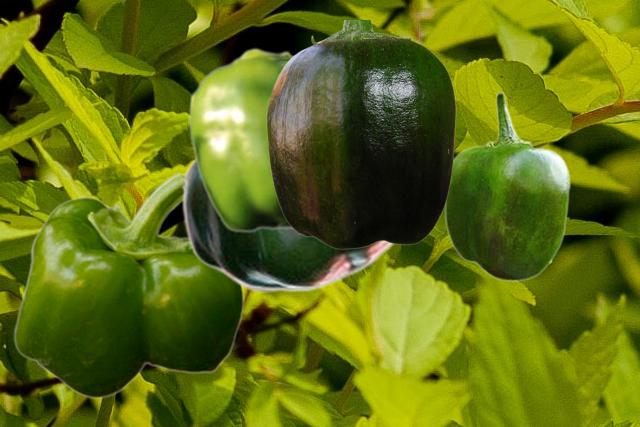bell_pepper: (13, 170, 243, 398), (266, 20, 455, 248), (180, 158, 396, 291), (443, 91, 570, 281), (188, 47, 296, 232)
